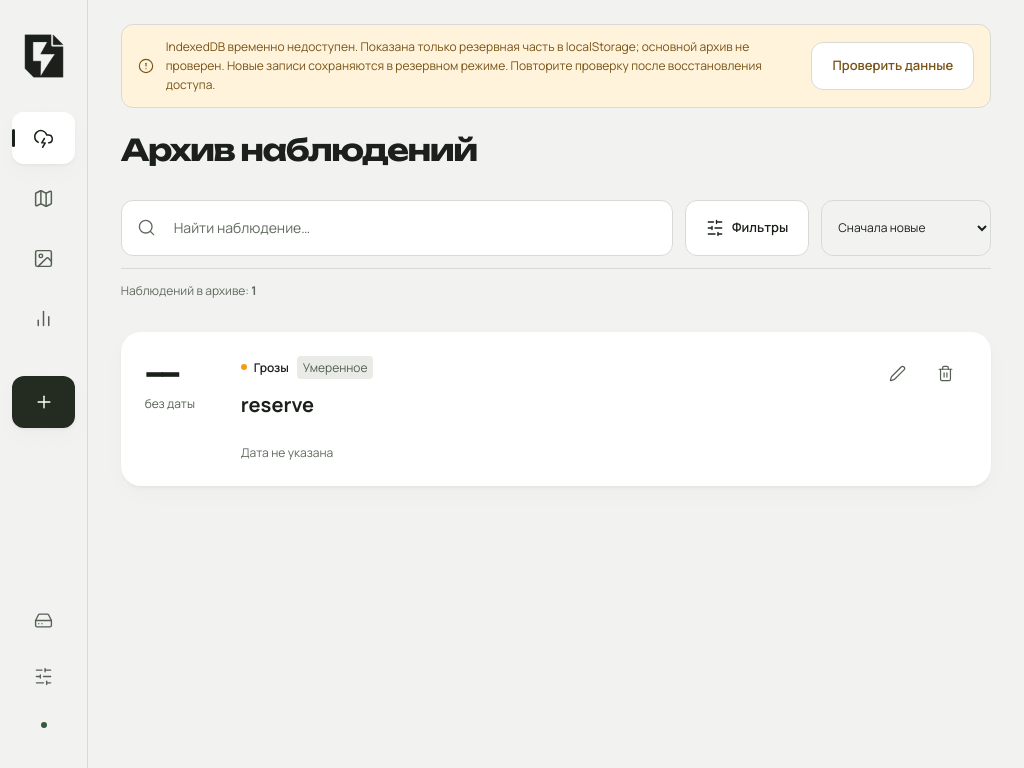
Scenario: storage backend recovery through the application › shows fallback records, retries access, and reveals both stores without changing originals
Expected: the button "reserve" is shown, top-left (241, 383), bottom-right (314, 427)
Expected: the text "основной архив не проверен" is shown, top-left (166, 38), bottom-right (762, 93)
Click the button named "Данные и резервные копии". click: coordinates (44, 620)
box: top-left (12, 594), bottom-right (75, 646)
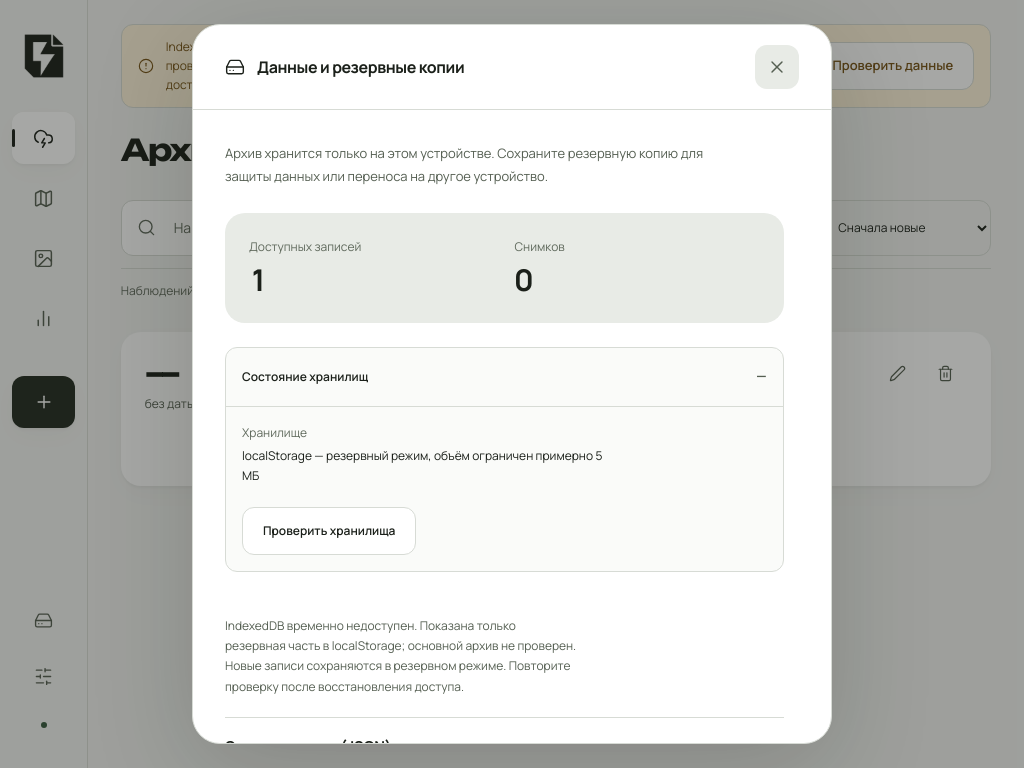
Result: the text "Доступных записей" is shown at top-left (249, 238), bottom-right (361, 255)
Click the button "Проверить хранилища". click: coordinates (329, 530)
box: top-left (242, 506), bottom-right (416, 554)
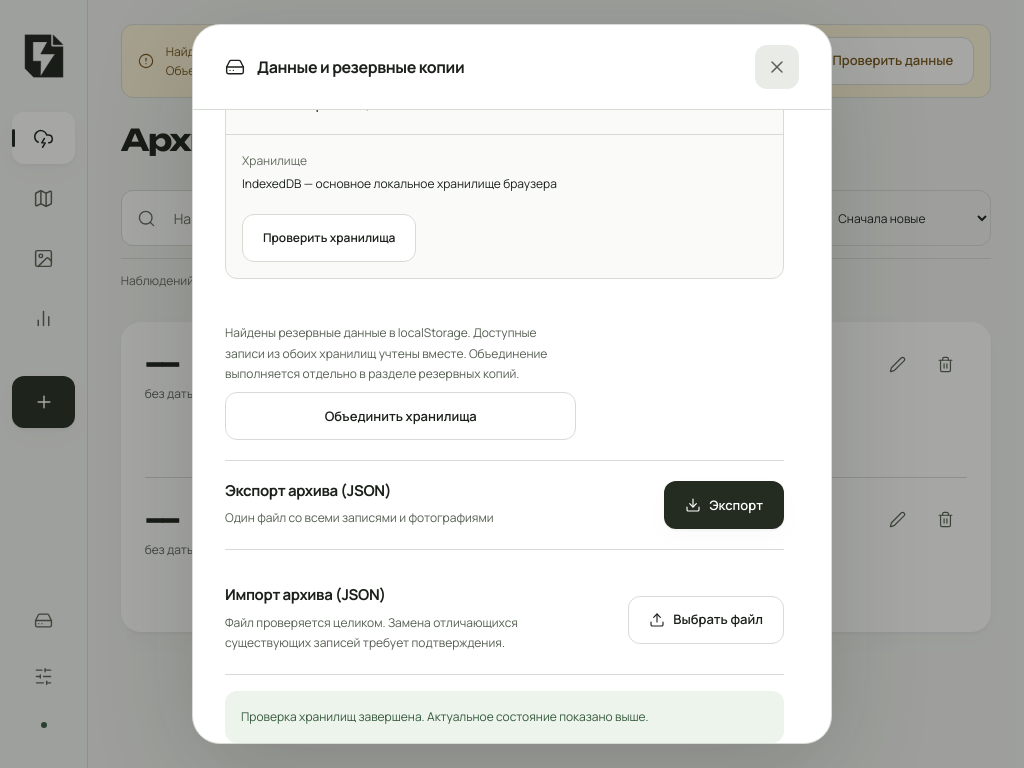
Expected: the button "reserve" is shown, top-left (241, 529), bottom-right (314, 573)
Result: the text "Проверка хранилищ завершена. Актуальное состояние показано выше." is shown at top-left (225, 691), bottom-right (784, 743)
Result: the button "primary" is shown at top-left (241, 373), bottom-right (315, 417)
